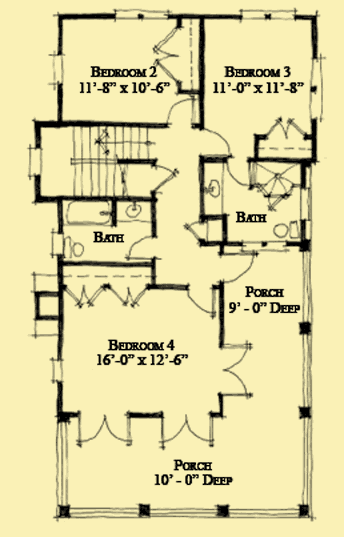door: (157, 410, 218, 448), (76, 412, 136, 448), (218, 343, 250, 400), (219, 249, 258, 284), (61, 283, 104, 308), (187, 285, 218, 319), (201, 128, 235, 159), (106, 285, 152, 307), (123, 235, 159, 262), (265, 118, 309, 140), (167, 99, 199, 128)
stairs: (38, 124, 159, 199)
